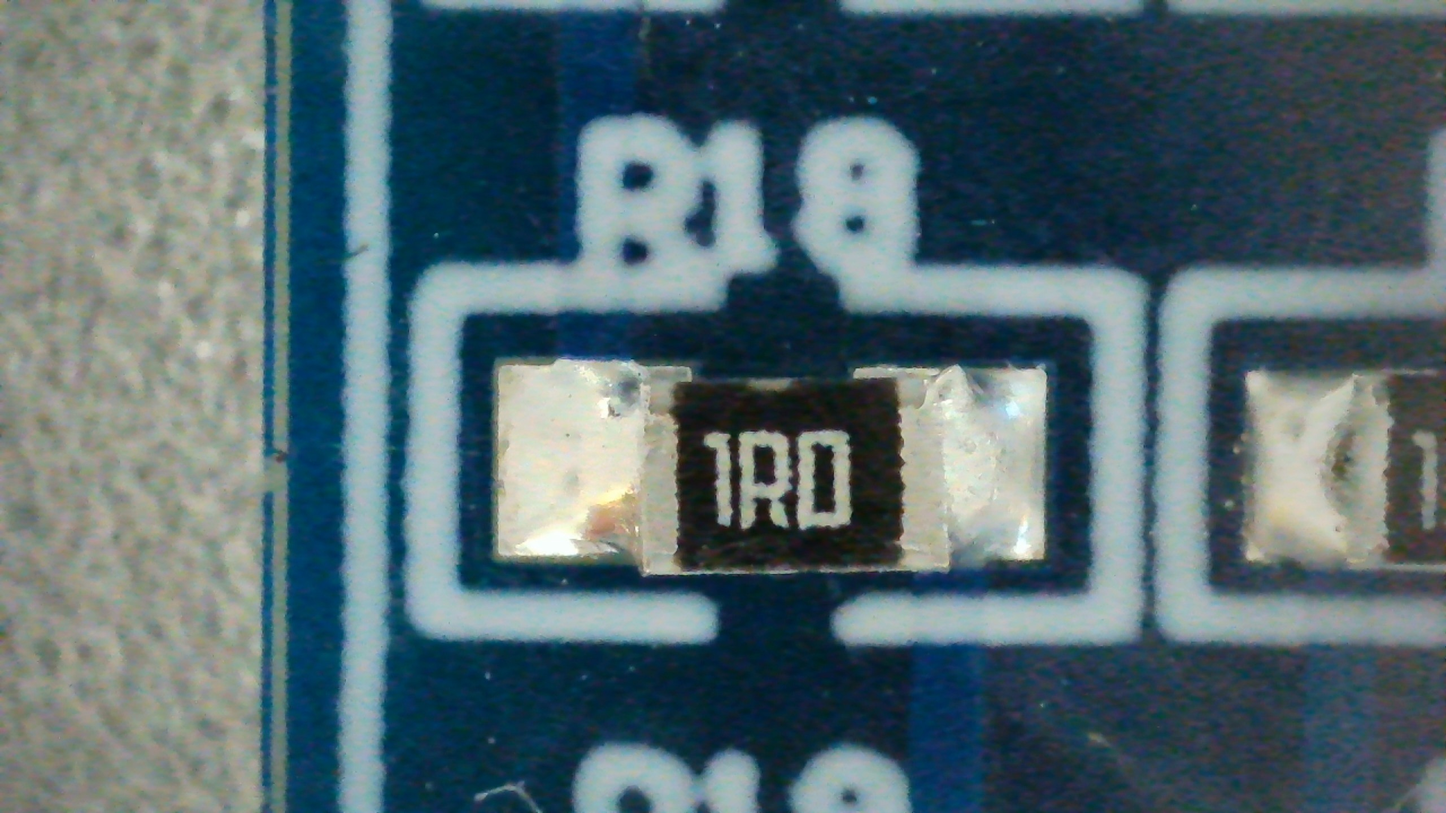OK: (500, 363, 1048, 576)
